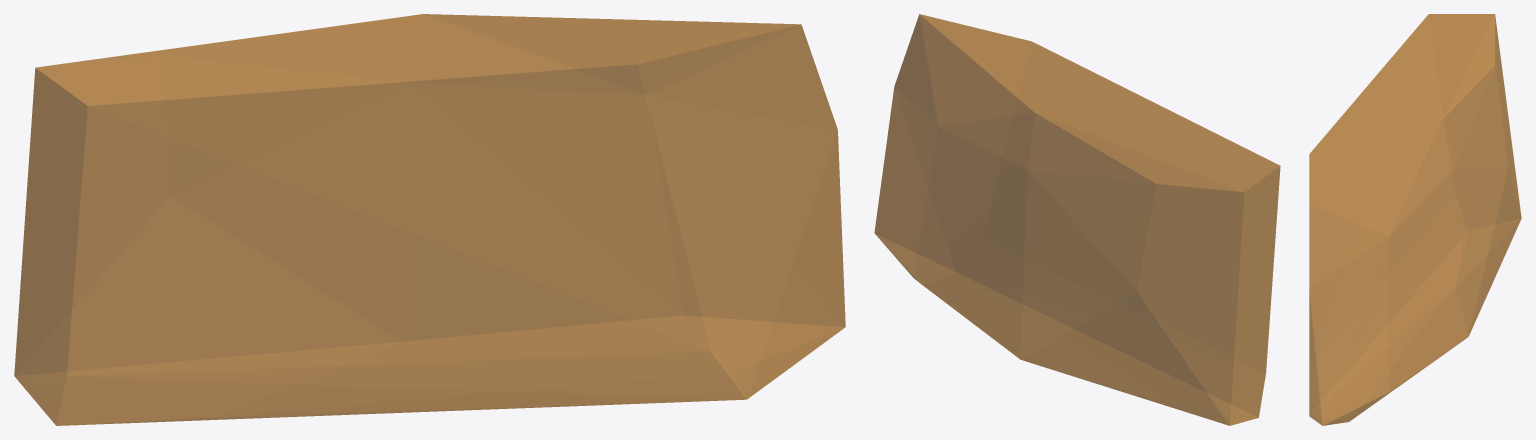
3 views of the same model, side by side, from view 1: azimuth 30°, elevation 25°; view 2: azimuth 150°, elevation 25°; view 3: azimuth 270°, elevation 25° (orthographic). The views are drawn at different scales.
Visible parts, largest first — view 1: Shape_IndexedFaceSet.011_Shape_IndexedFaceSet.5687; view 2: Shape_IndexedFaceSet.011_Shape_IndexedFaceSet.5687; view 3: Shape_IndexedFaceSet.011_Shape_IndexedFaceSet.5687.
Boxes of the visible parts, x1,y1,x2,y2 form: Shape_IndexedFaceSet.011_Shape_IndexedFaceSet.5687: (14, 14, 845, 425); Shape_IndexedFaceSet.011_Shape_IndexedFaceSet.5687: (874, 14, 1280, 425); Shape_IndexedFaceSet.011_Shape_IndexedFaceSet.5687: (1309, 14, 1521, 425).
Bounding box in the file's own units: 0.1169 × 0.06 × 0.0505.
